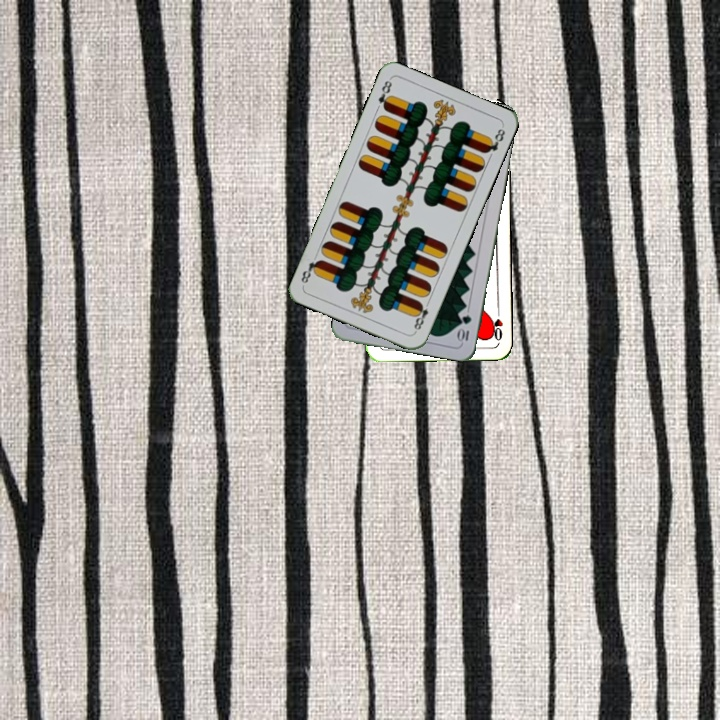E8: (410, 297, 433, 335), (374, 75, 395, 113)
G10: (455, 311, 474, 344)
HO: (488, 303, 505, 343)
